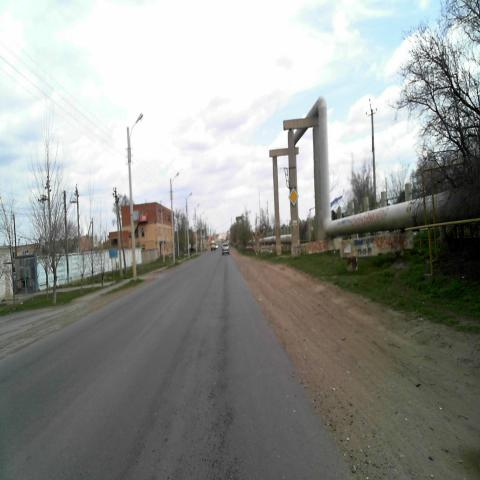2_1: (288, 188, 299, 206)
